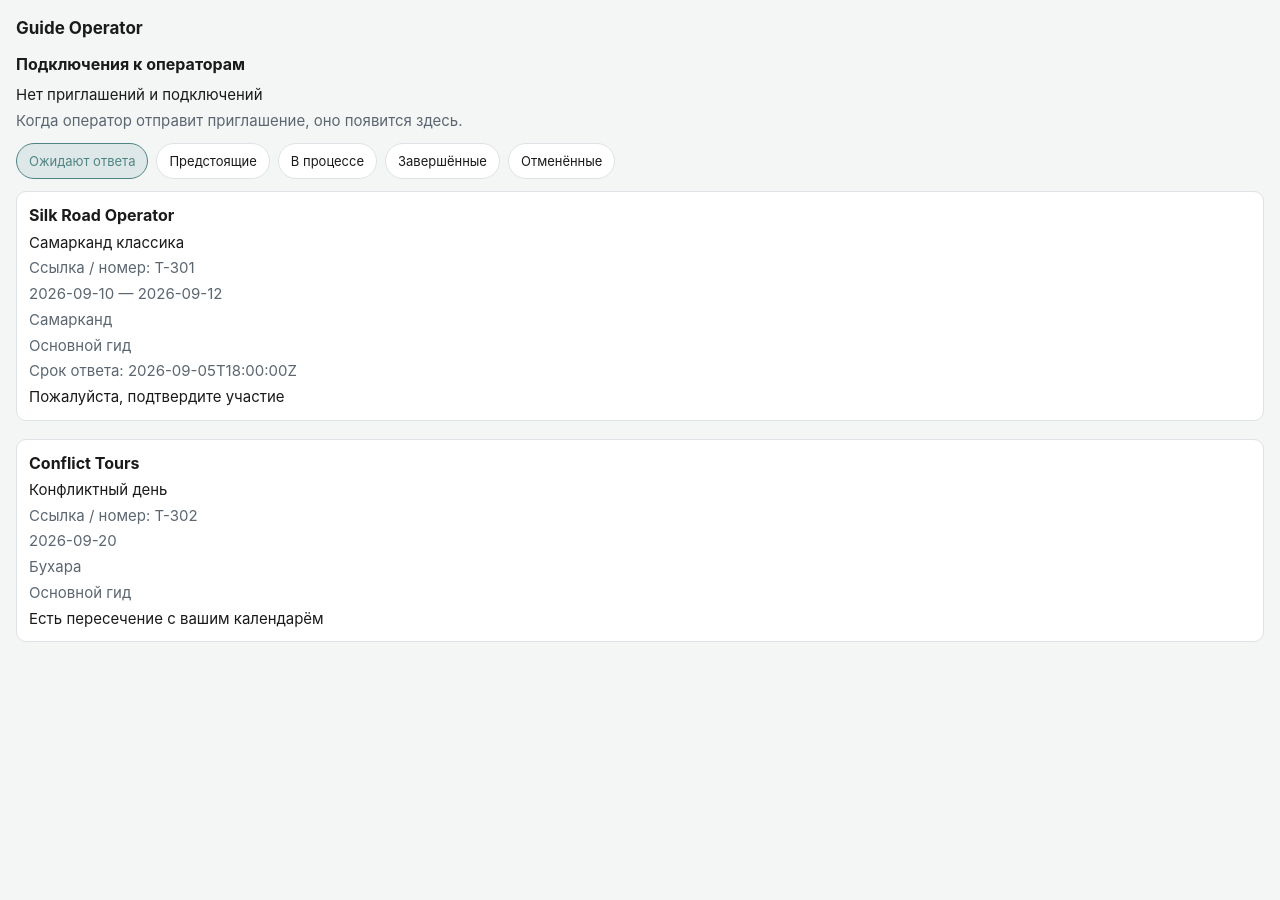
Guide Operator UI (GO6B2) › shows cancelled section sorted newest-first with retained detail and no actions
This screenshot has width=1280, height=900.
Expected: the list with test id "go-list-awaiting" is shown, [16,191,1264,652]
Click the button "Отменённые".
click(562, 161)  # box [508,143,615,179]
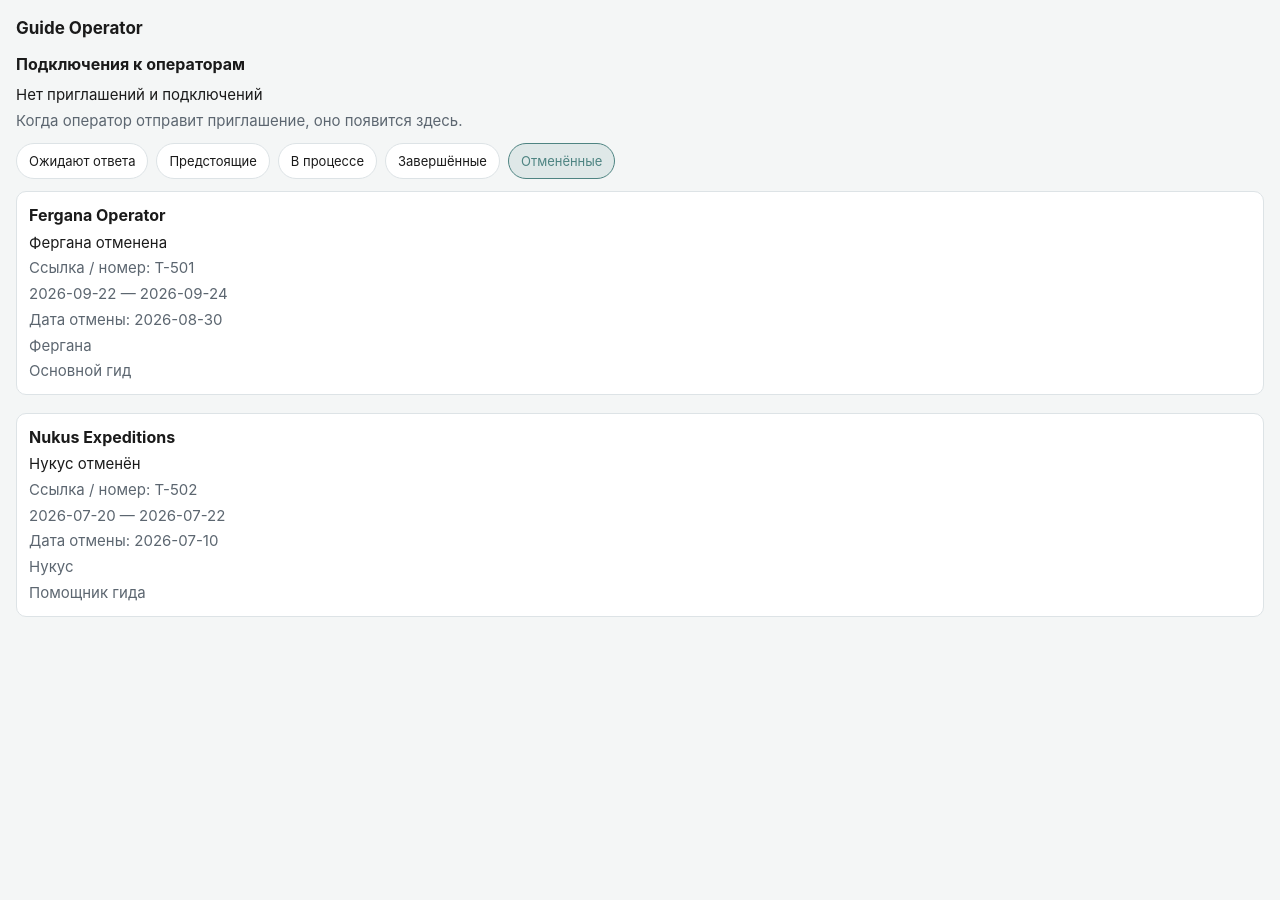
Expected: the list with test id "go-list-cancelled" is shown, [16,191,1264,627]
Expected: the button with aria-label "Открыть назначение:" shows "Fergana Operator"
Expected: the button with aria-label "Открыть назначение:" shows "Nukus Expeditions", [16,413,1264,617]
Click the button with aria-label "Открыть назначение: Фергана отменена".
click(640, 293)  # box [16,191,1264,395]
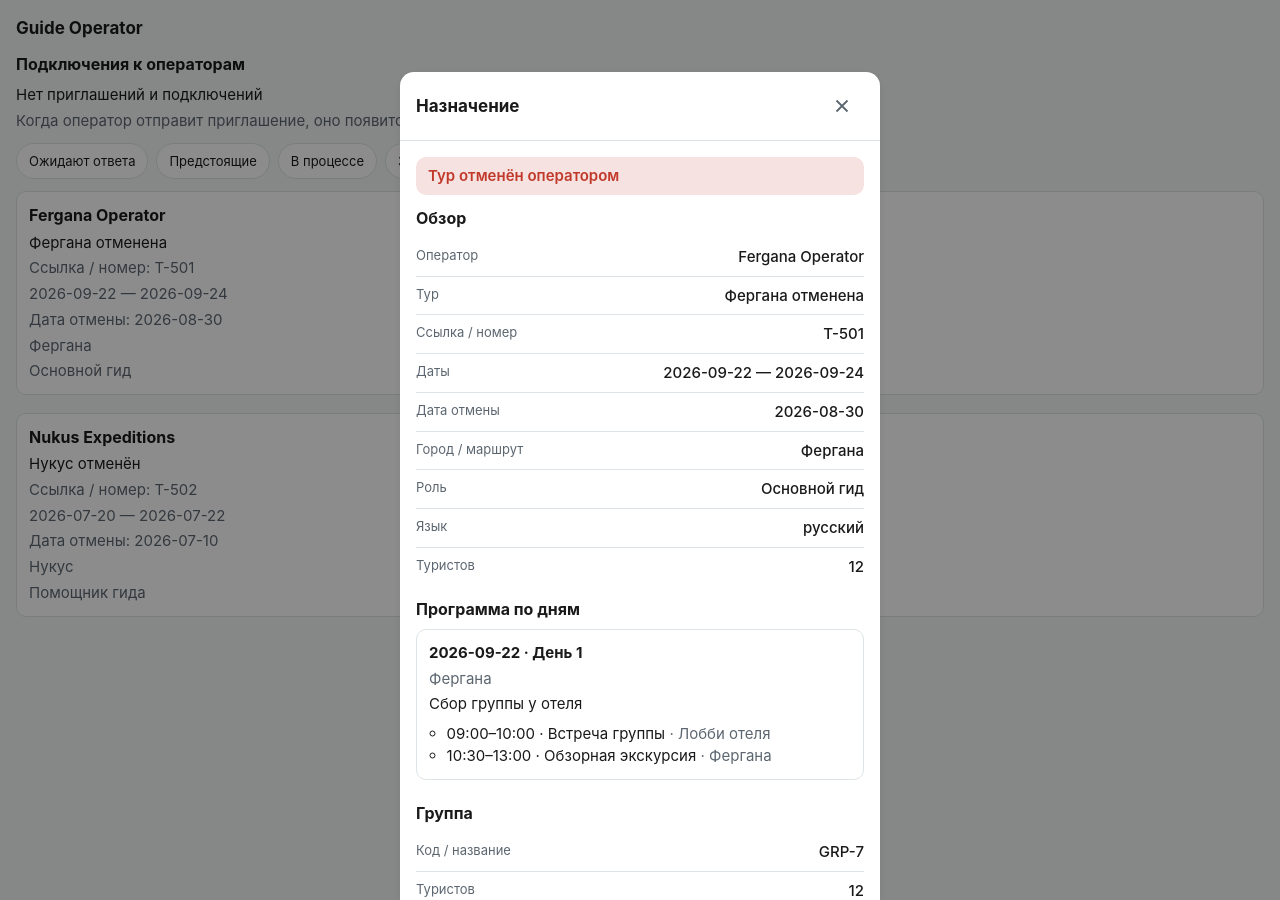
Expected: the text "Тур отменён оператором" is shown, [416,157,864,195]
Expected: the heading "Обзор" is shown, [416,208,466,228]
Expected: the heading "Программа по дням" is shown, [416,599,580,619]
